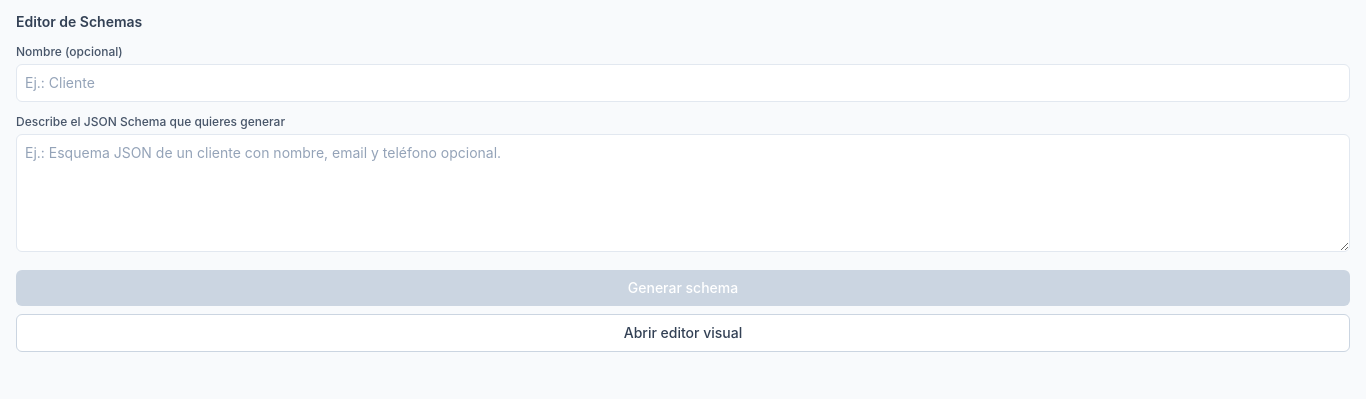
Test: DeveloperSchemaPanel › muestra el mensaje de error de forma accesible
Type "Genera algo" into the text box labelled "Describe el JSON Schema que quieres generar".
click(683, 193); type("Genera algo")  # box [16, 134, 1350, 252]
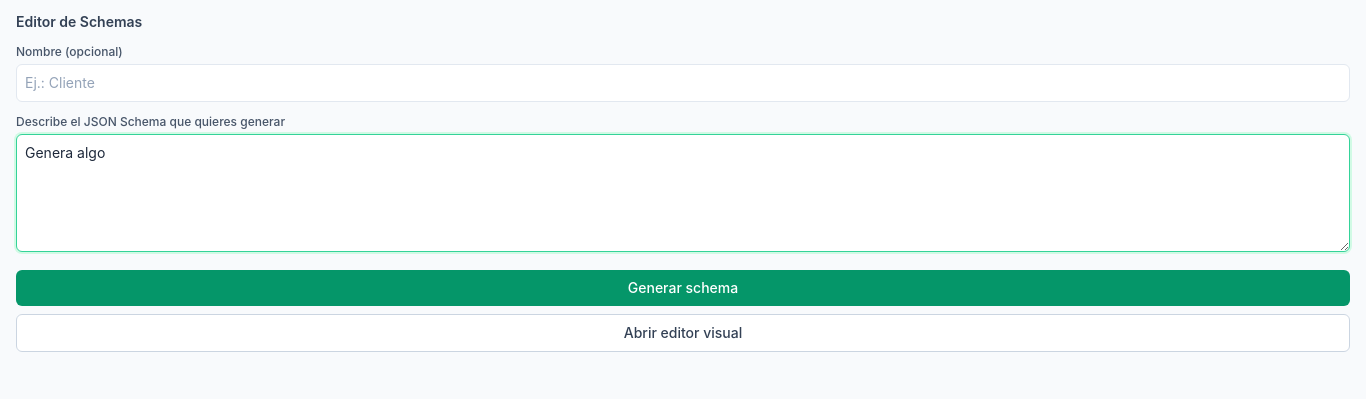
Click the button "Generar schema".
click(683, 288)  # box [16, 270, 1350, 306]
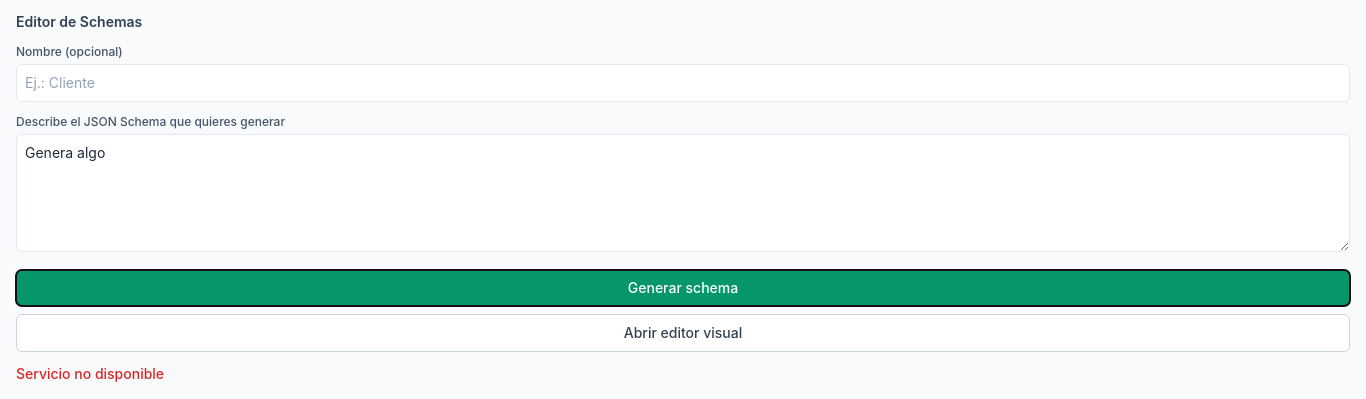
Expected: the message reads "Servicio no disponible", [16, 365, 164, 382]
